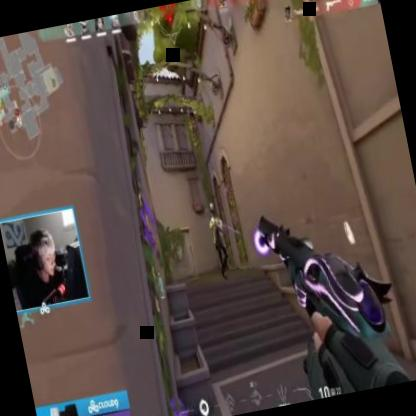enemy: (207, 212, 233, 280)
enemy_head: (212, 212, 216, 219)
